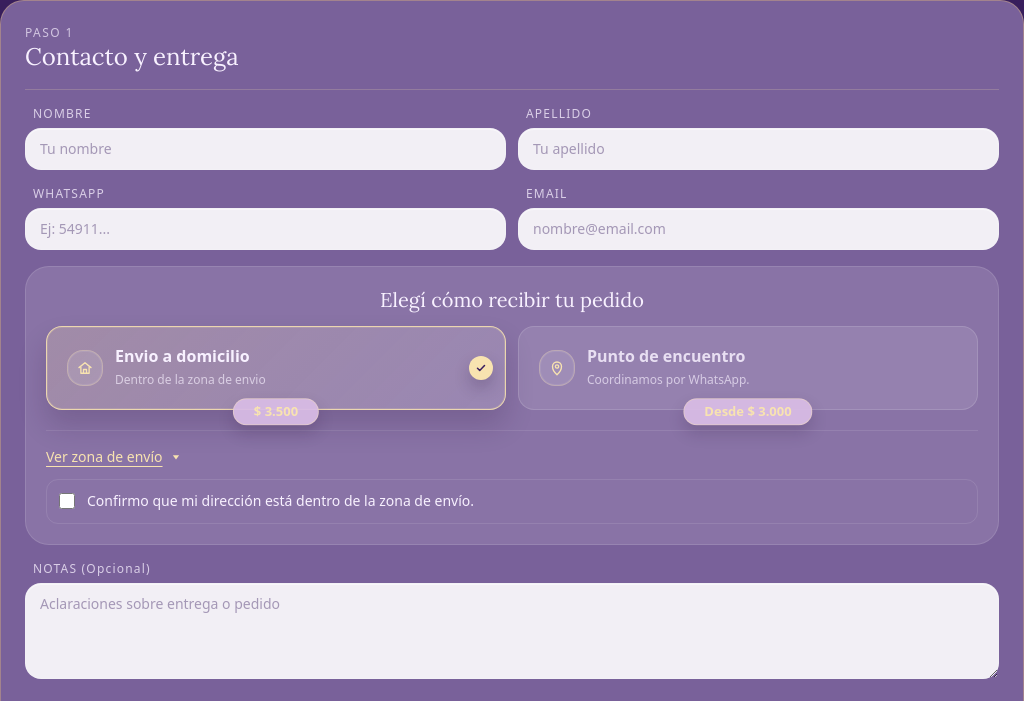
CheckoutSteps Auto-Advance › shows pickup point prices instead of a free pickup badge
The width and height of the screenshot is (1024, 701).
Click the text "Punto de encuentro" at (666, 356), box [587,345,745,367]
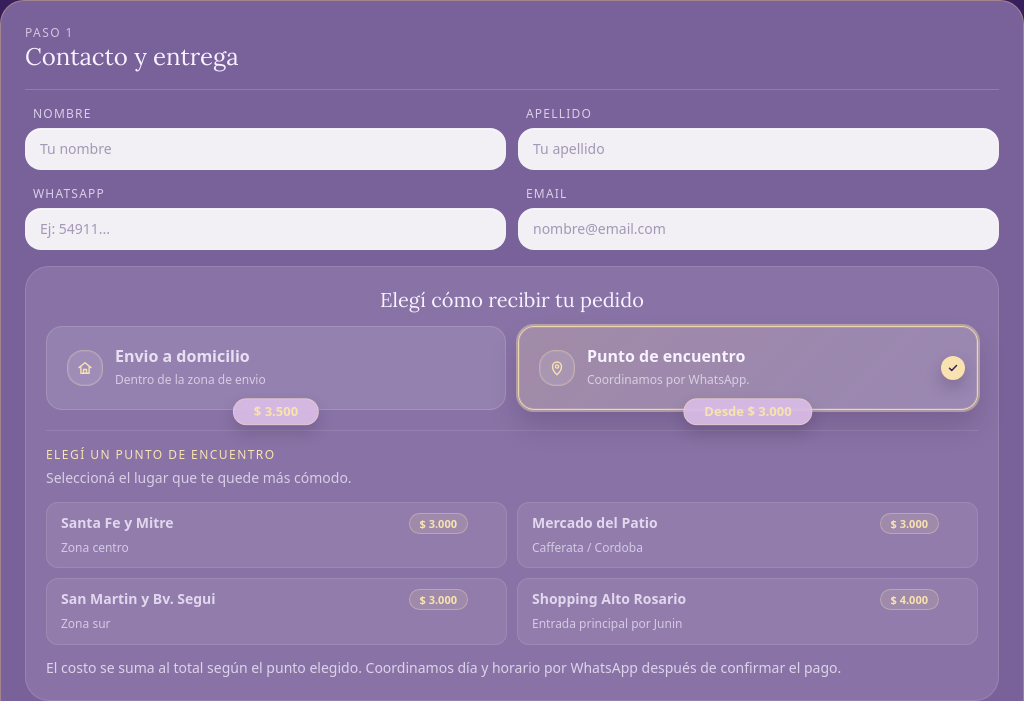
Expected: the text "Desde $ 3.000" is shown, [683,398,813,425]
Result: the text "El costo se suma al total" is shown at [46,658,841,677]
